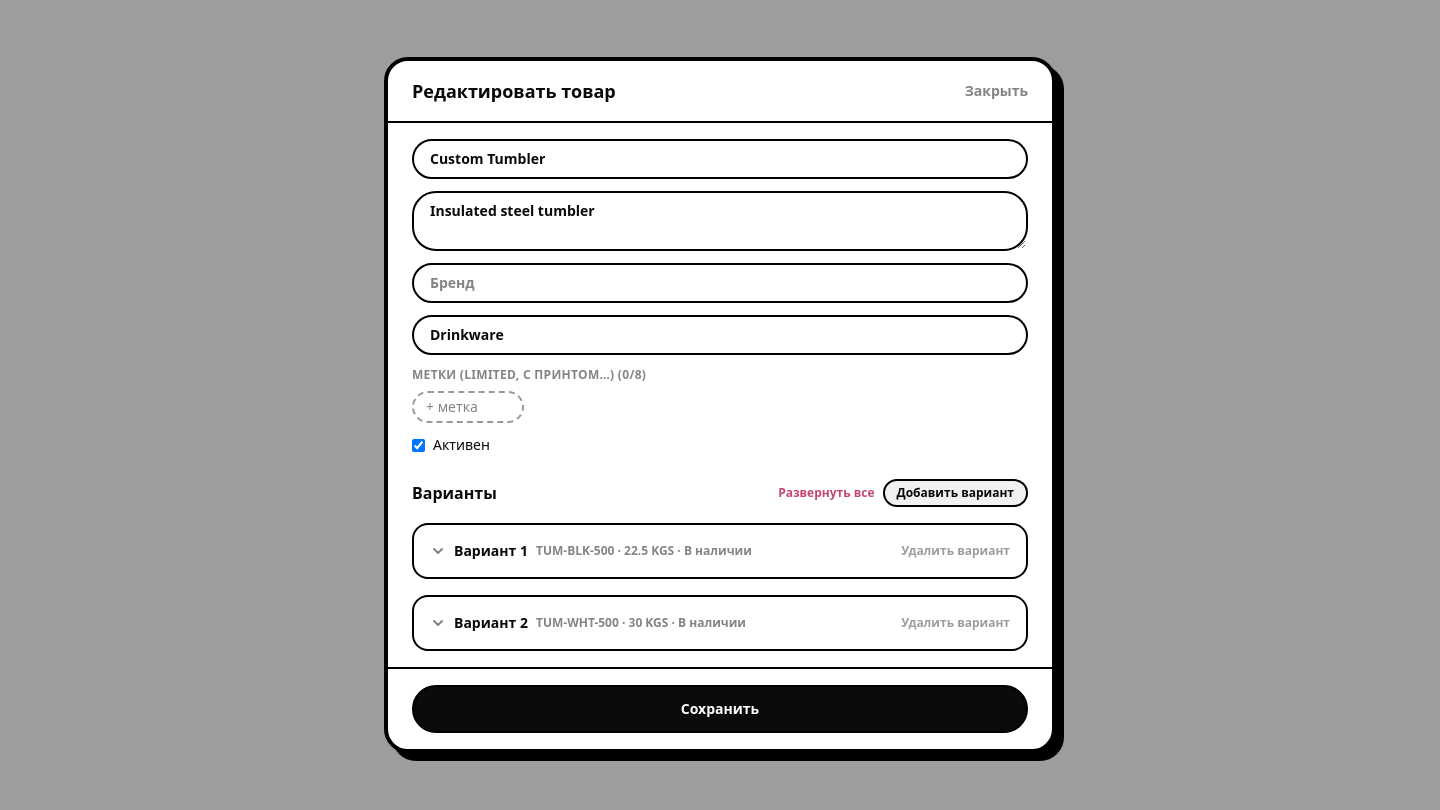
ProductForm › collapses loaded variants to a name + price line and expands one on click
Check: the text "TUM-WHT-500 · 30 KGS · В наличии" is shown, box 536,615 -> 746,631
Click the button "Вариант 1 TUM-BLK-500 · 22.5 KGS · В наличии" at (662, 551), box 430,541 -> 893,561
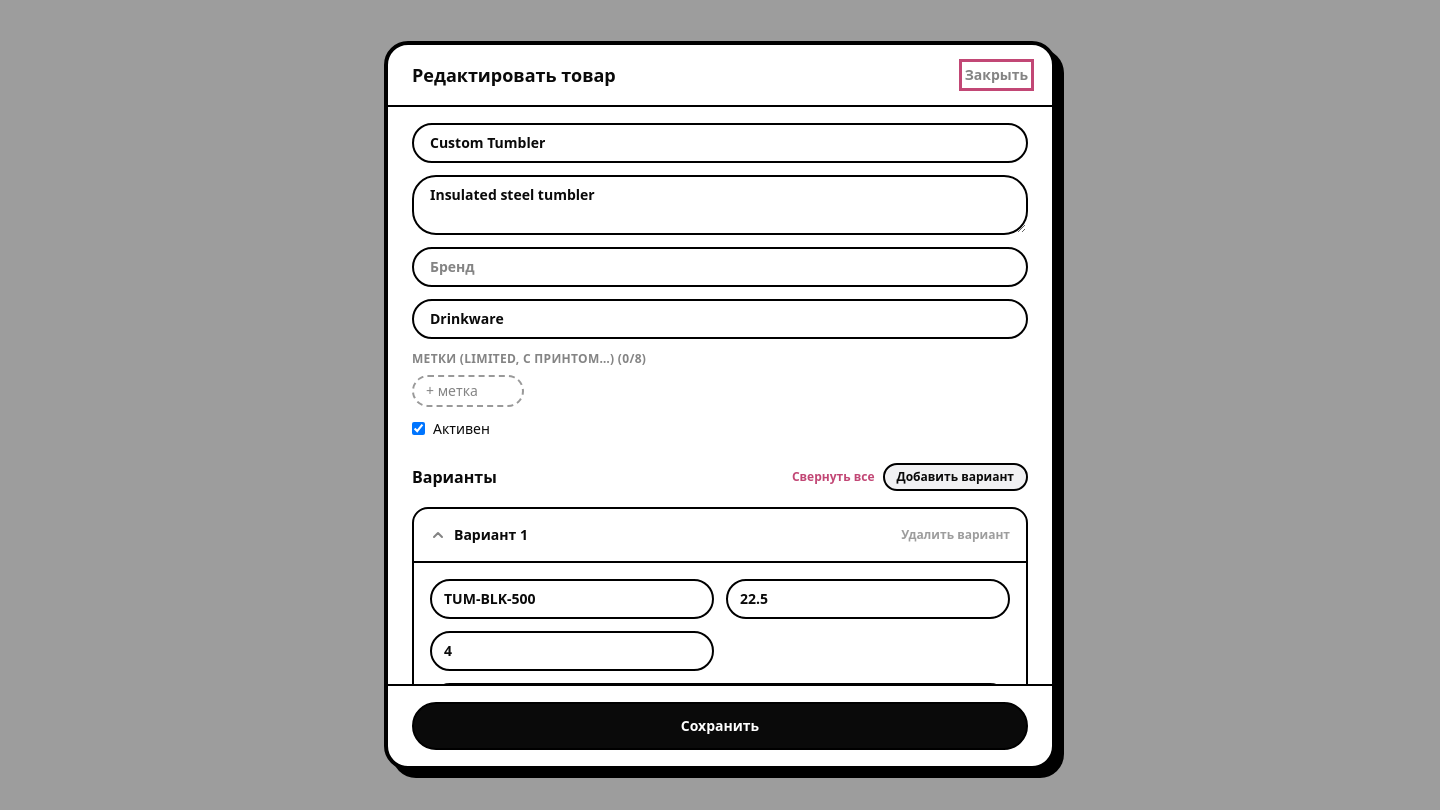
Check: the 3rd field showing "TUM-BLK-500" is shown, box 430,578 -> 714,618
